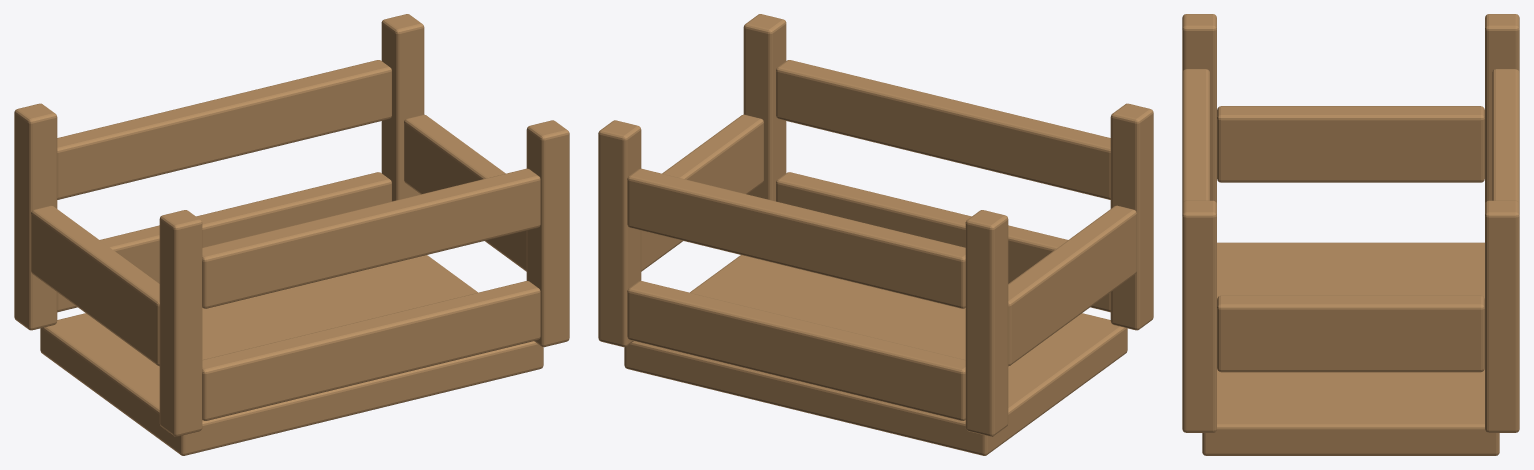
The model's file is retail-display-crate-01.glb.
The picture shows the model from 3 angles, left to right: view 1: azimuth 30°, elevation 25°; view 2: azimuth 150°, elevation 25°; view 3: azimuth 270°, elevation 25°; orthographic projection. The views are drawn at different scales.
Visible parts, largest first — view 1: retail-display-crate-01; view 2: retail-display-crate-01; view 3: retail-display-crate-01.
Boxes of the visible parts, x1,y1,x2,y2 form: retail-display-crate-01: (14, 14, 569, 455); retail-display-crate-01: (598, 14, 1153, 455); retail-display-crate-01: (1182, 14, 1519, 455).
Bounding box in the file's own units: 0.48 × 0.28 × 0.34.
